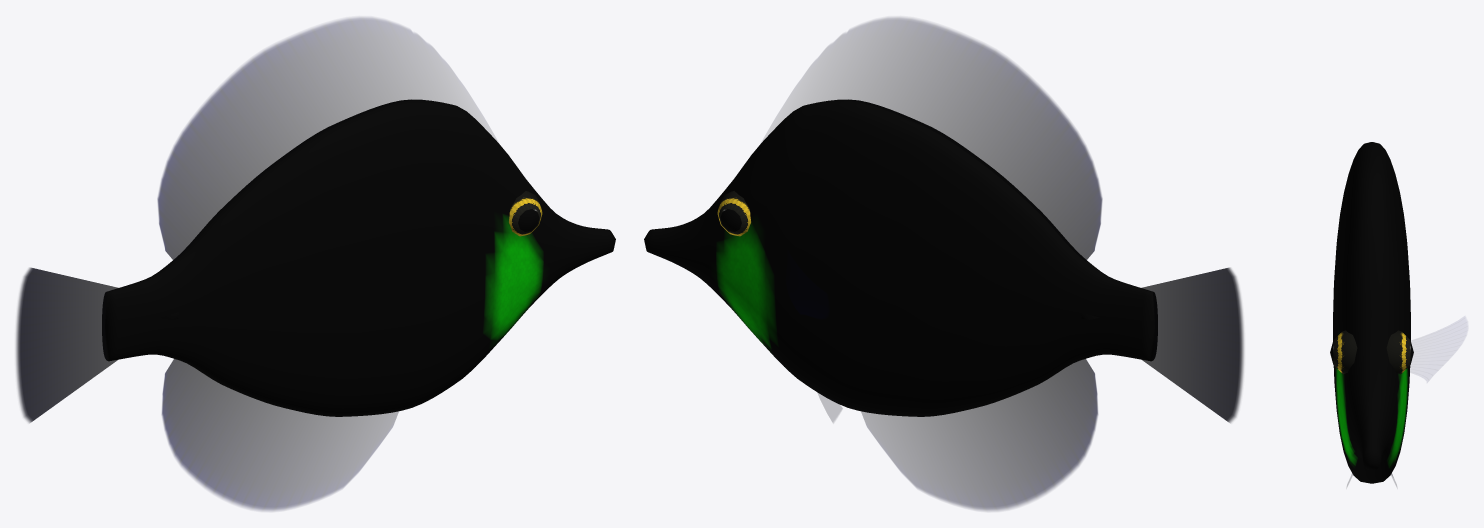
File: yellow_tang.glb
3 renders of one model, left to right at view 1: azimuth 30°, elevation 25°; view 2: azimuth 150°, elevation 25°; view 3: azimuth 270°, elevation 25°, orthographic.
Visible parts, largest first — view 1: Body, FinDorsal, FinAnal, FinCaudal, EyeR; view 2: Body, FinDorsal, FinAnal, FinCaudal, EyeL; view 3: Body, EyeL, EyeR.
Boxes of the visible parts, x1,y1,x2,y2 form: Body: [102, 99, 615, 416]; FinDorsal: [157, 17, 496, 261]; FinAnal: [162, 359, 398, 510]; FinCaudal: [16, 267, 119, 422]; EyeR: [509, 191, 542, 236]; Body: [644, 99, 1157, 416]; FinDorsal: [763, 17, 1102, 261]; FinAnal: [861, 359, 1097, 510]; FinCaudal: [1140, 267, 1243, 422]; EyeL: [717, 191, 750, 236]; Body: [1333, 142, 1410, 483]; EyeL: [1386, 330, 1413, 374]; EyeR: [1330, 330, 1357, 374].
Size of the model in its own units: 1 by 0.7662 by 0.2831.
Materials: 4 (3 with a texture image).
